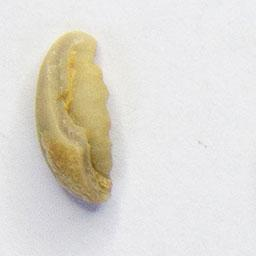defect: (25, 24, 125, 214)
